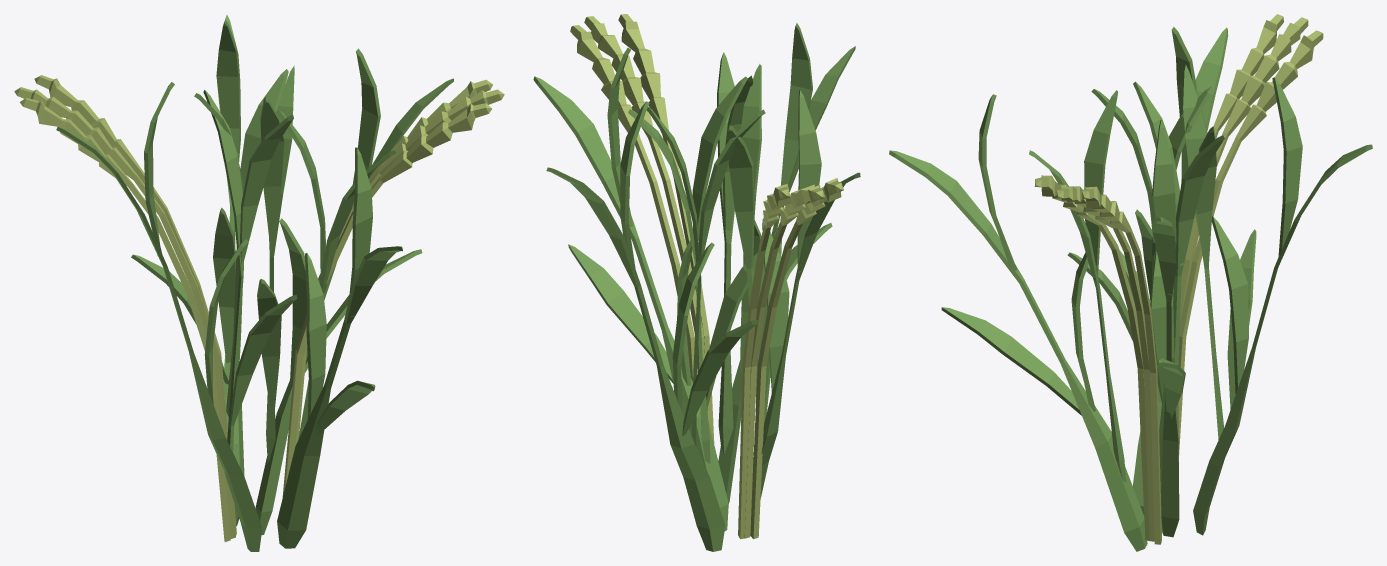
File: Rice_4.glb
The picture shows the model from 3 angles, left to right: view 1: azimuth 30°, elevation 25°; view 2: azimuth 150°, elevation 25°; view 3: azimuth 270°, elevation 25°; orthographic projection.
Visible parts, largest first — view 1: Rice_4; view 2: Rice_4; view 3: Rice_4.
Boxes of the visible parts, x1,y1,x2,y2 form: Rice_4: (14, 14, 504, 551); Rice_4: (533, 14, 860, 551); Rice_4: (889, 14, 1372, 551).
Size of the model in its own units: 0.7786 by 0.9535 by 0.8808.
